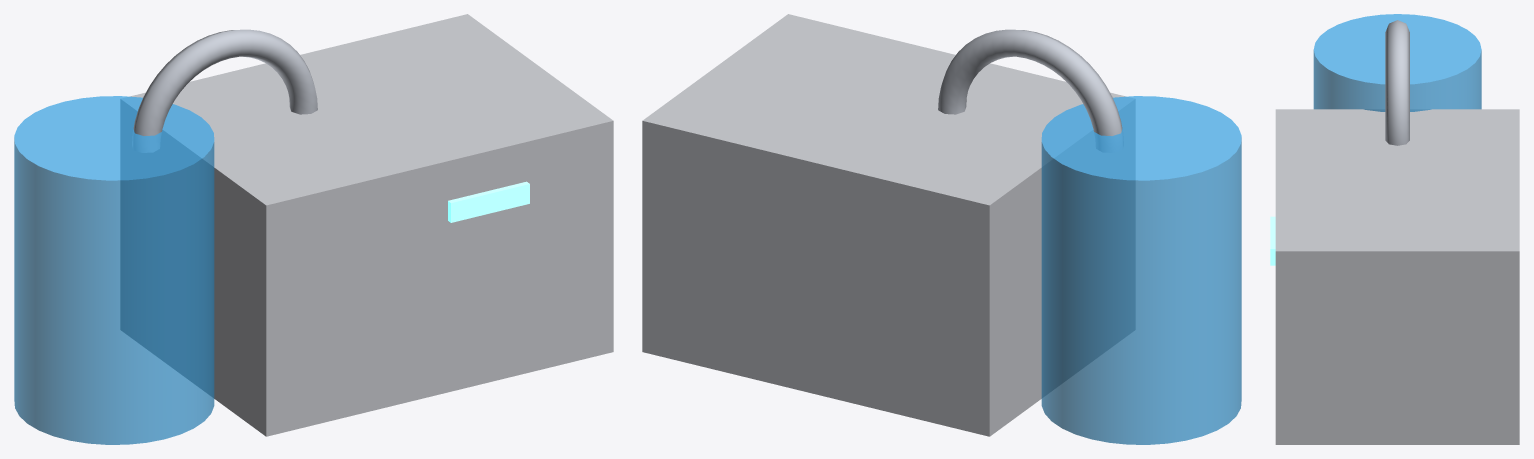
File: reciclador.glb
The picture shows the model from 3 angles, left to right: view 1: azimuth 30°, elevation 25°; view 2: azimuth 150°, elevation 25°; view 3: azimuth 270°, elevation 25°; orthographic projection. The views are drawn at different scales.
Visible parts, largest first — view 1: reciclador, estado; view 2: reciclador; view 3: reciclador, estado.
Part boxes in pixels (left/top/right/bottom): reciclador: left=14, top=14, right=613, bottom=444; estado: left=448, top=181, right=529, bottom=222; reciclador: left=642, top=14, right=1241, bottom=444; reciclador: left=1275, top=14, right=1519, bottom=444; estado: left=1270, top=216, right=1275, bottom=265.
Bounding box in the file's own units: 3.25 × 2.08 × 1.64.
